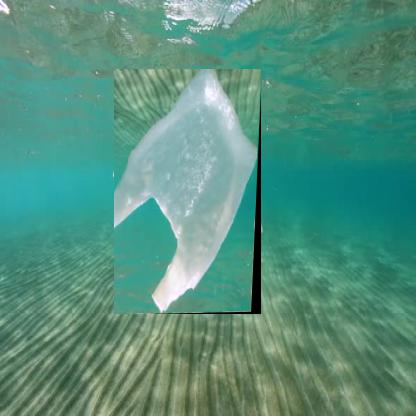plastic-bag: (114, 69, 262, 315)
